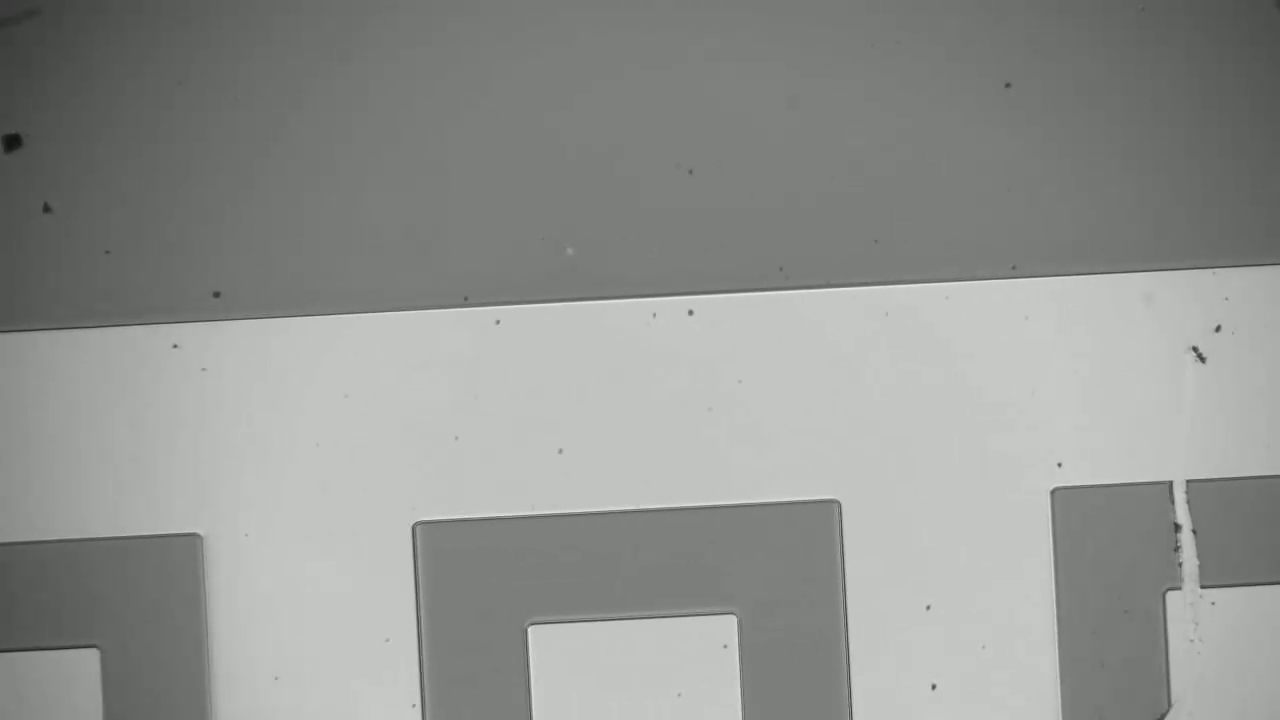Short_circuit: (1160, 464, 1227, 604)
